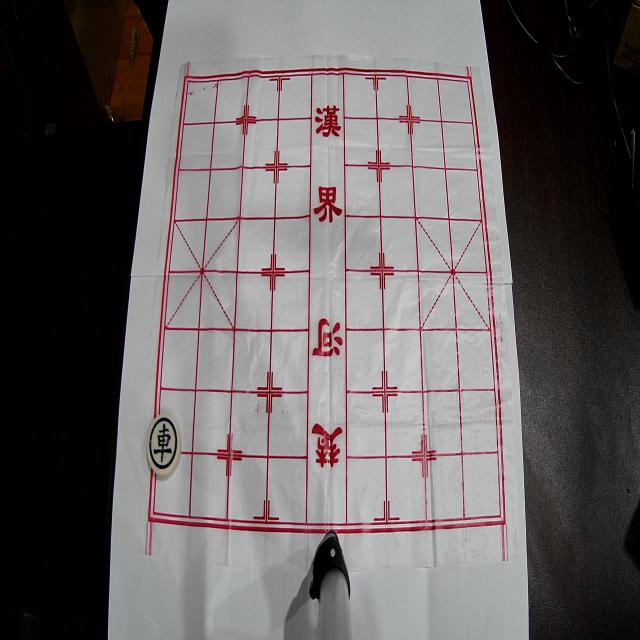black-chariot: (147, 413, 181, 478)
